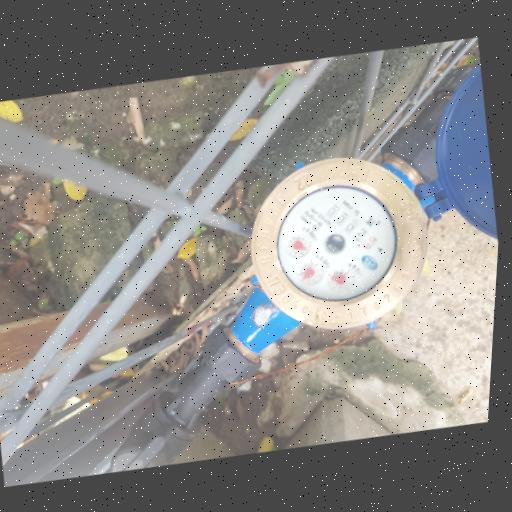0: (320, 198, 343, 220), (329, 207, 352, 228), (339, 215, 362, 236)
2: (350, 223, 371, 244)
3: (358, 230, 381, 253)
border_water_meter_number: (315, 190, 386, 261)
